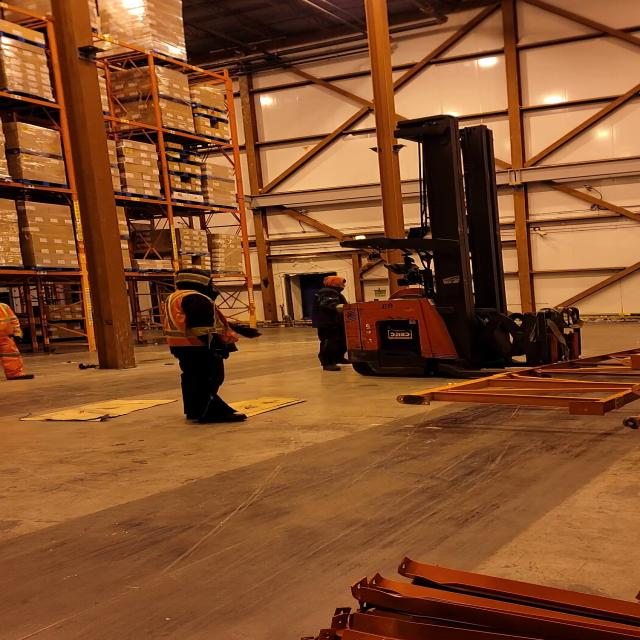forklift: (341, 122, 593, 382)
human: (155, 268, 260, 426), (306, 275, 362, 377), (0, 290, 34, 381)
objectofinterest: (396, 342, 640, 419), (8, 394, 180, 426), (180, 392, 309, 422)
